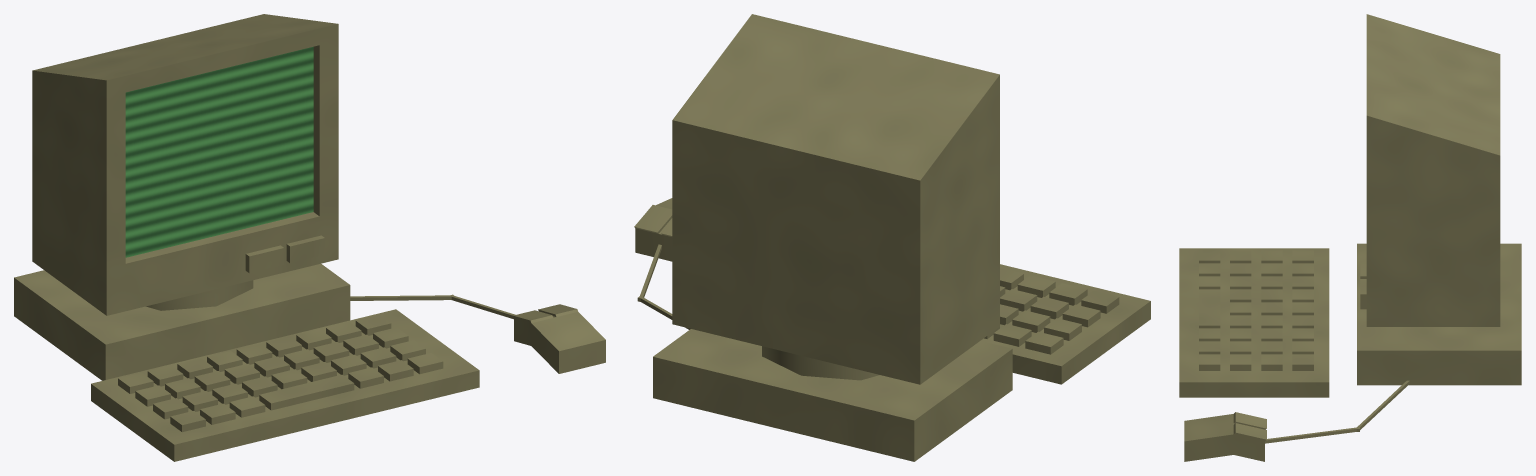
File: Computadora.fbx
3 views of the same model, side by side, from view 1: azimuth 30°, elevation 25°; view 2: azimuth 150°, elevation 25°; view 3: azimuth 270°, elevation 25° (orthographic). The views are drawn at different scales.
Visible parts, largest first — view 1: PC; view 2: PC; view 3: PC.
Boxes of the visible parts, box(x1,y1,x2,y2) form: PC: box(14, 14, 605, 461); PC: box(634, 14, 1150, 461); PC: box(1179, 14, 1521, 461).
Size of the model in its own units: 125 by 83.79 by 94.96.
